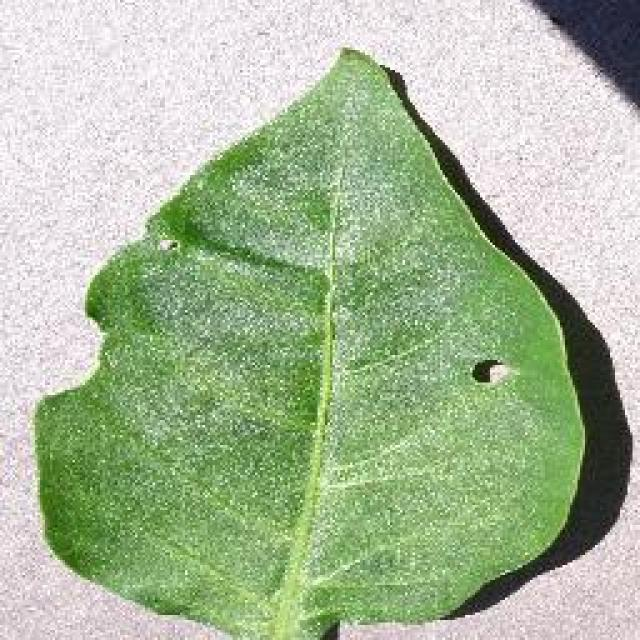Leaf: (34, 9, 640, 634)
